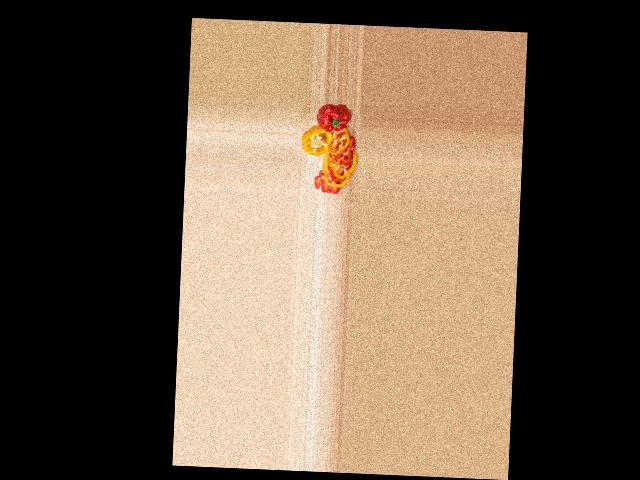bell_pepper: (299, 126, 332, 158)
